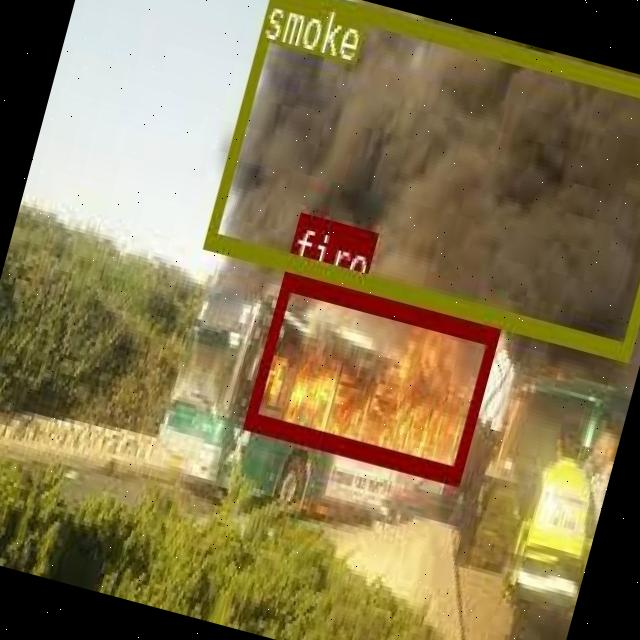fire: (242, 268, 498, 482)
smoke: (202, 0, 640, 358)
